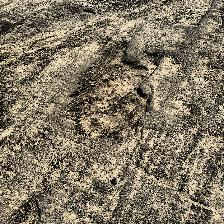pothole: (60, 39, 160, 142), (7, 196, 44, 224)
